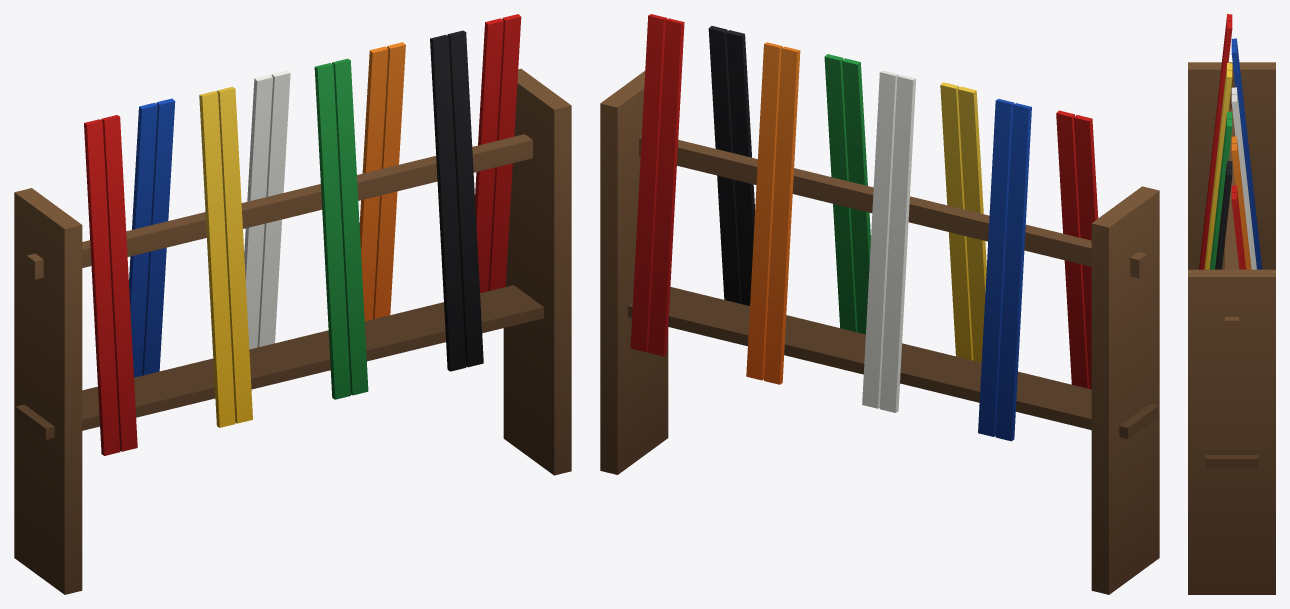
The model's file is Ski_Rack.fbx.
The picture shows the model from 3 angles, left to right: view 1: azimuth 30°, elevation 25°; view 2: azimuth 150°, elevation 25°; view 3: azimuth 270°, elevation 25°; orthographic projection. The views are drawn at different scales.
Parts seen in each view (by area): view 1: Ski_Rack_LOD0; view 2: Ski_Rack_LOD0; view 3: Ski_Rack_LOD0.
Boxes of the visible parts, x1,y1,x2,y2 form: Ski_Rack_LOD0: (14, 14, 571, 594); Ski_Rack_LOD0: (600, 14, 1159, 594); Ski_Rack_LOD0: (1188, 14, 1275, 594).
Size of what is drawn, in the model's own units: 3 by 2.42 by 0.5.
1 material, 1 textured.
